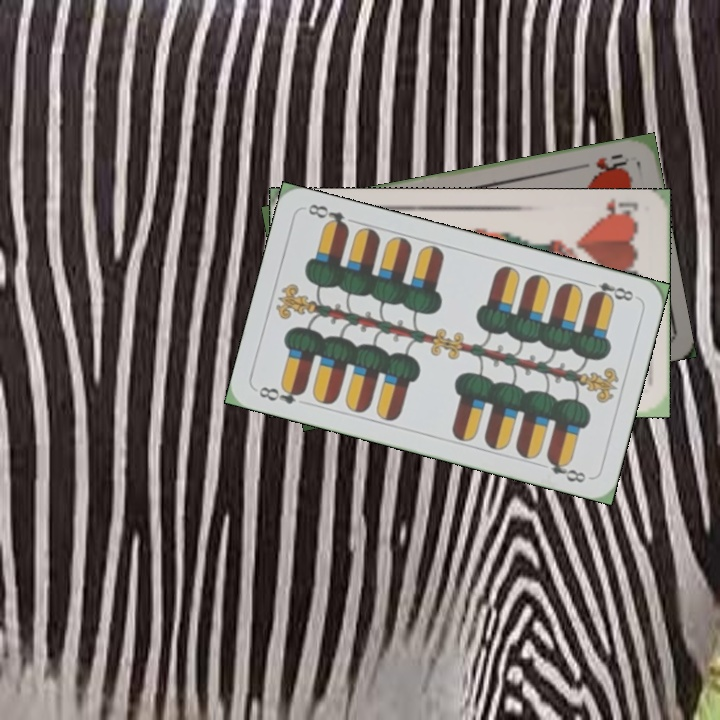E8: (581, 278, 636, 305), (255, 381, 308, 407)
HO: (574, 149, 632, 179), (595, 196, 642, 223)
